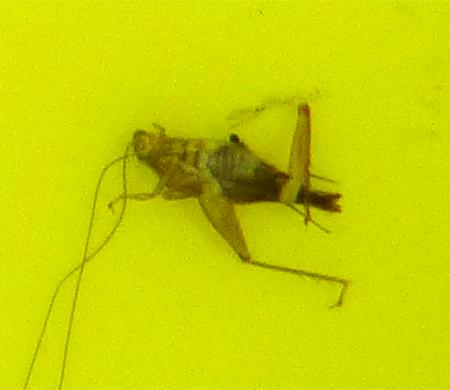Orthoptera: (100, 100, 350, 290)
